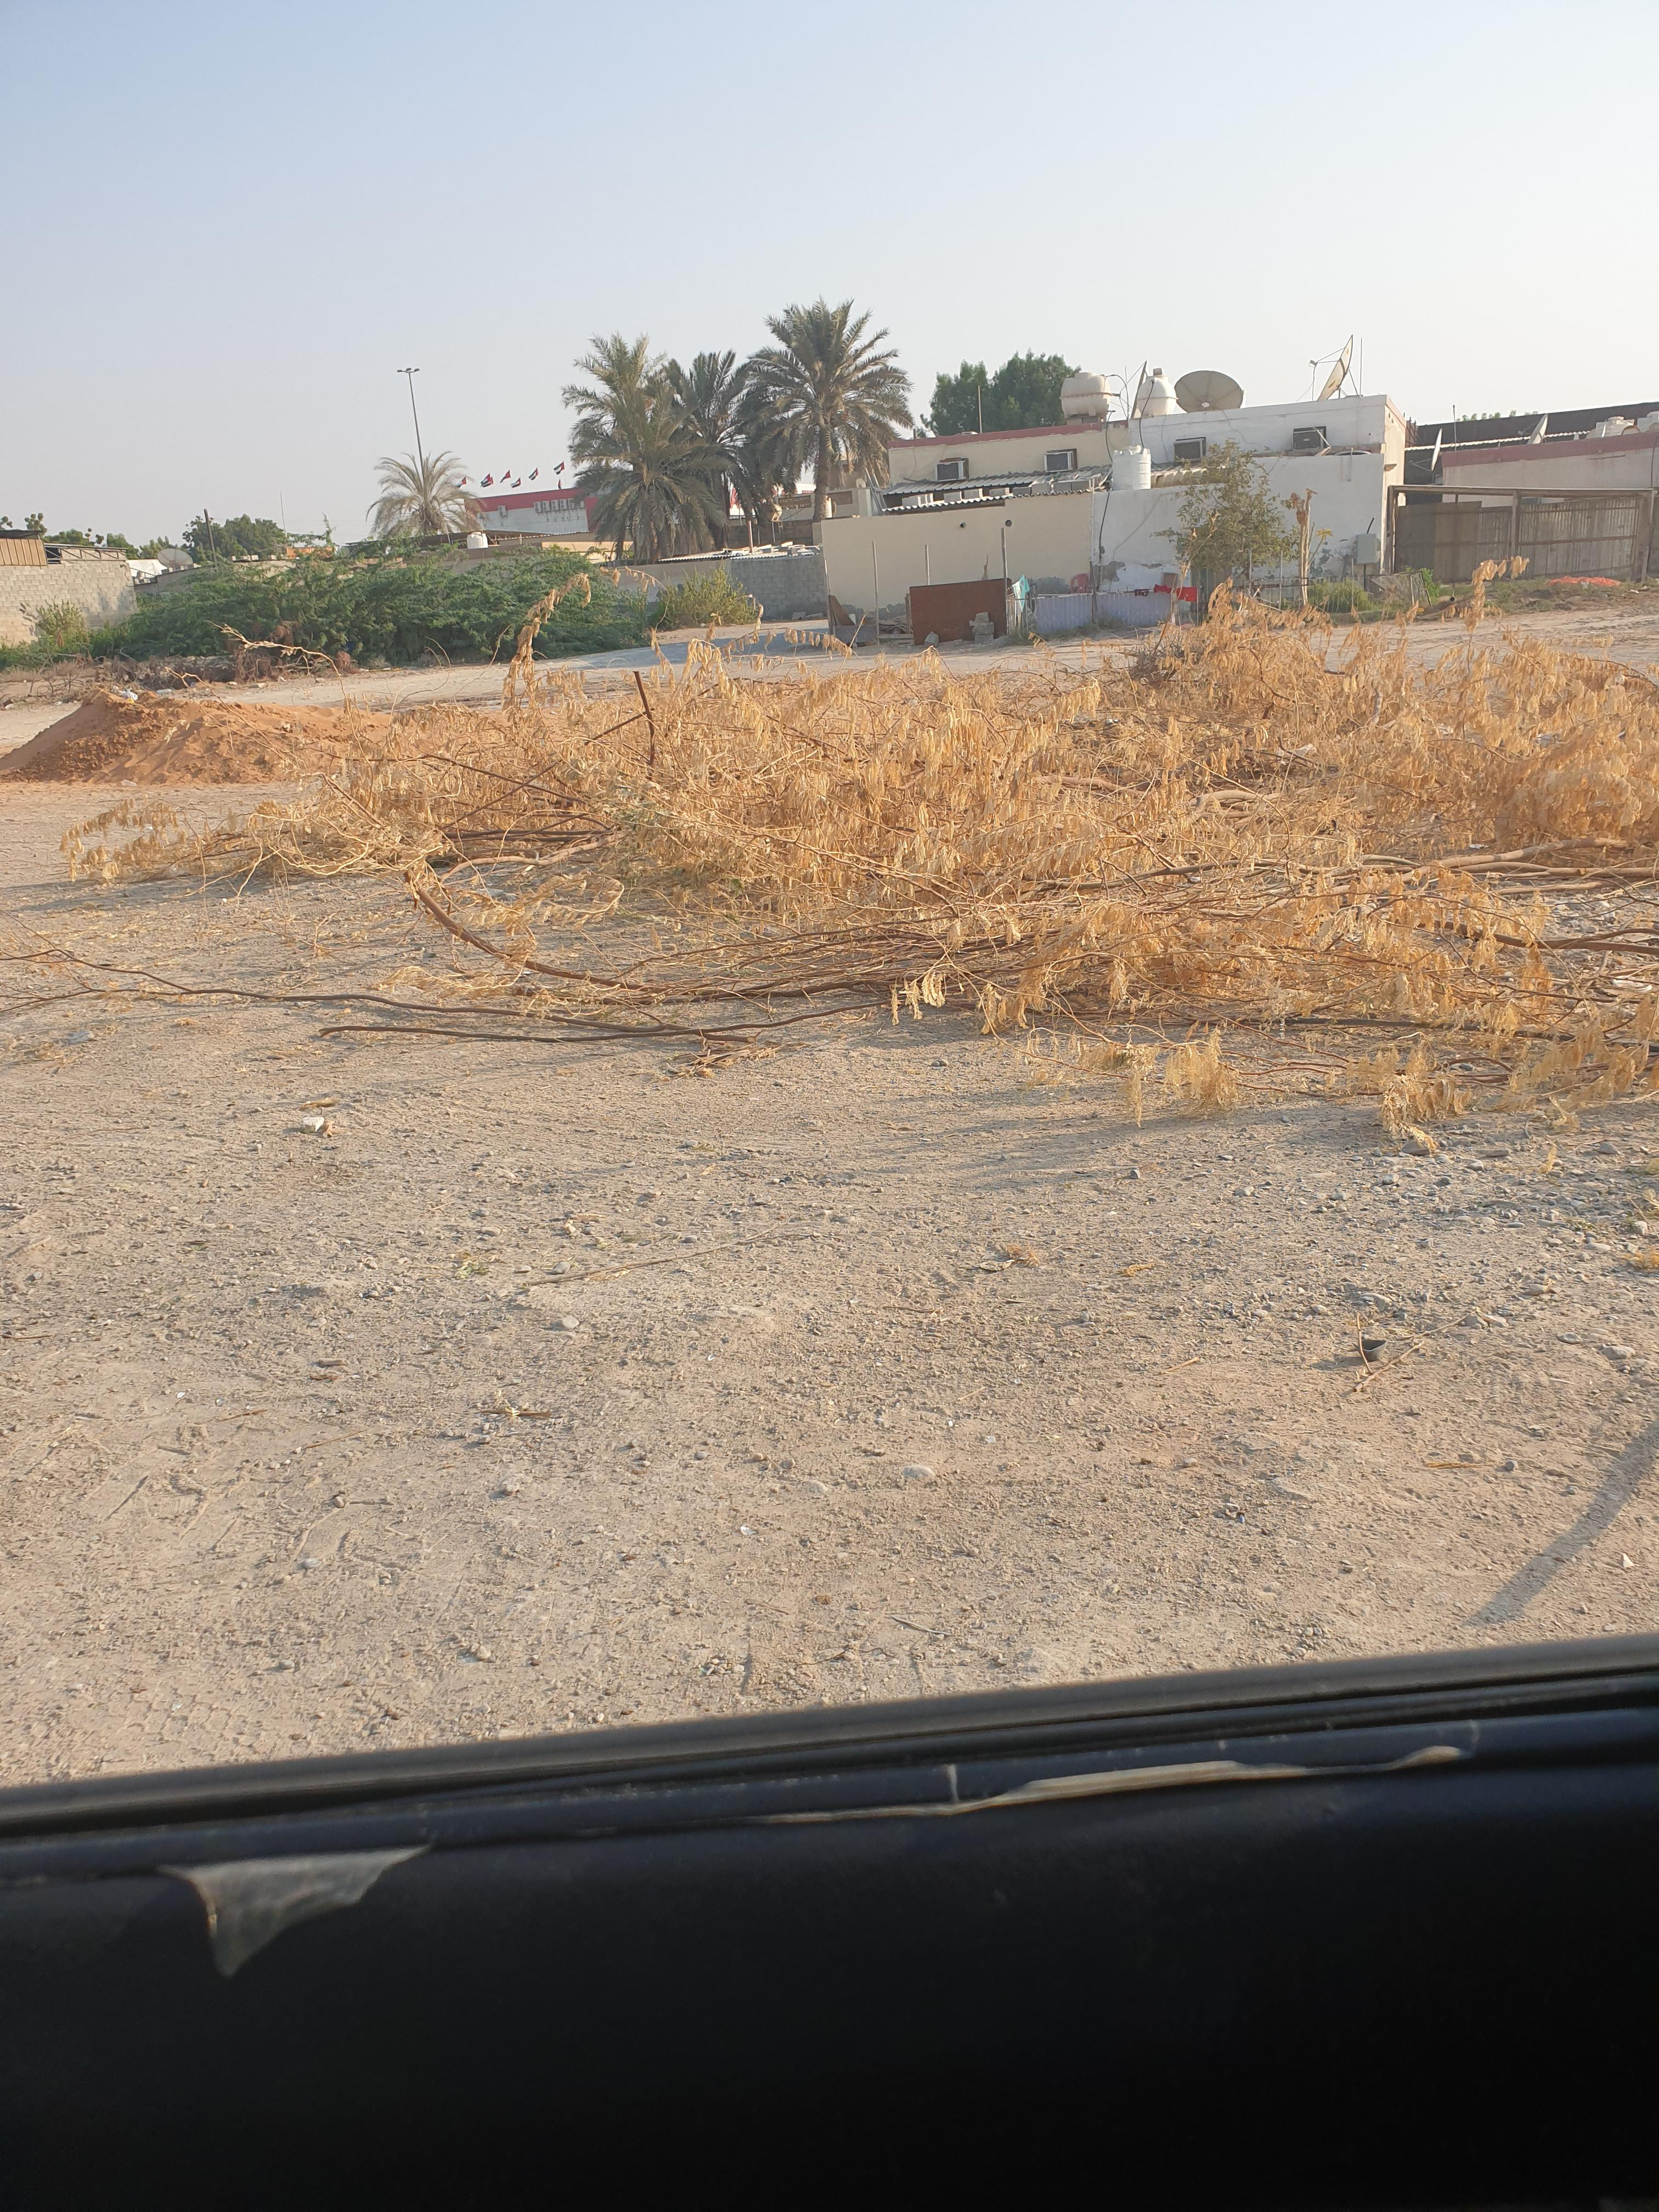fallen_trees: (830, 841, 1436, 1237), (117, 813, 798, 1097), (653, 888, 1300, 1148), (275, 897, 951, 1134), (993, 637, 1553, 907), (1420, 599, 1659, 1153), (423, 664, 971, 860)
